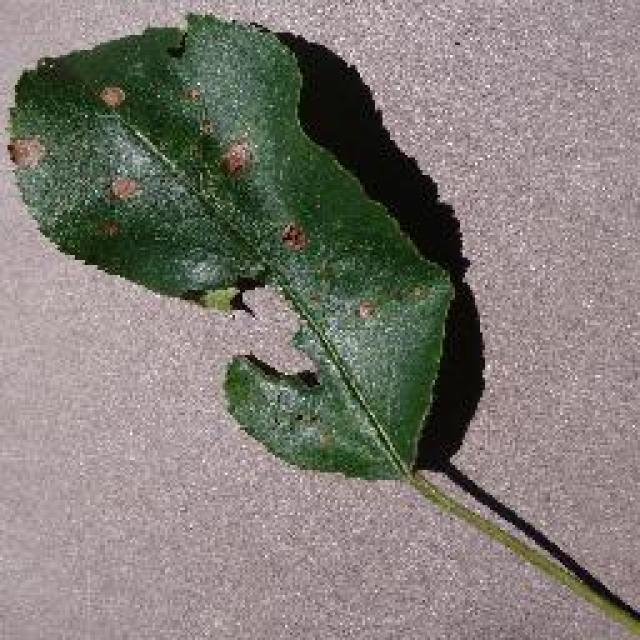Black_rot: (5, 10, 637, 638)
